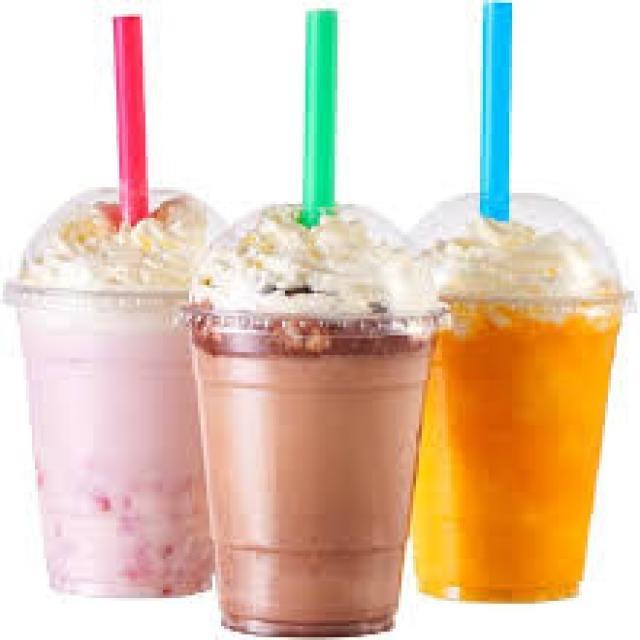bottle: (192, 311, 432, 636), (414, 303, 626, 601), (20, 291, 212, 596)
